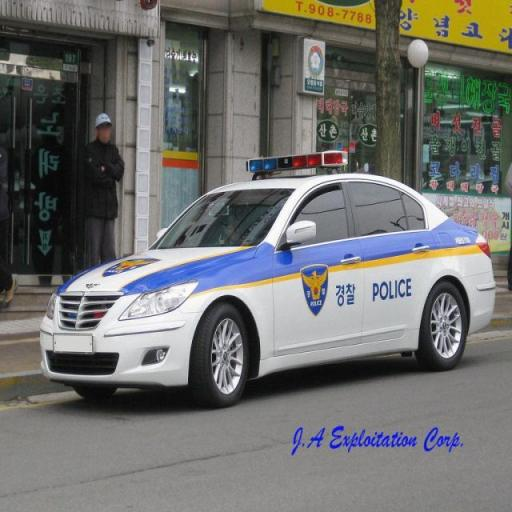Ambulance: (40, 150, 494, 396)
